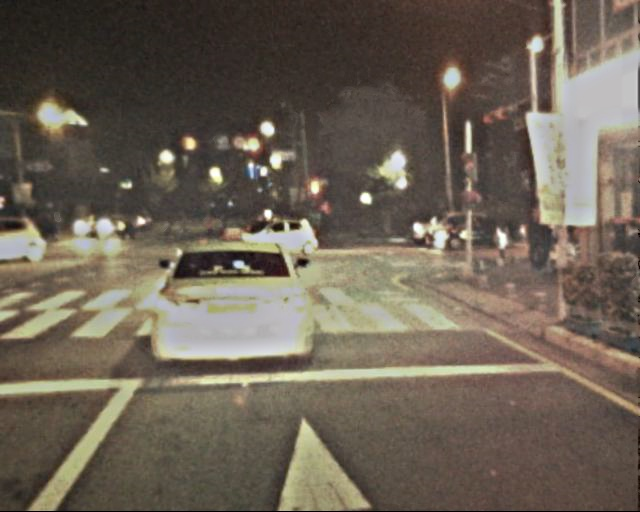person: (530, 216, 549, 269), (491, 221, 509, 264), (46, 212, 64, 240), (172, 211, 185, 243), (213, 209, 226, 240), (159, 211, 171, 241), (125, 209, 137, 239), (200, 212, 211, 238)
